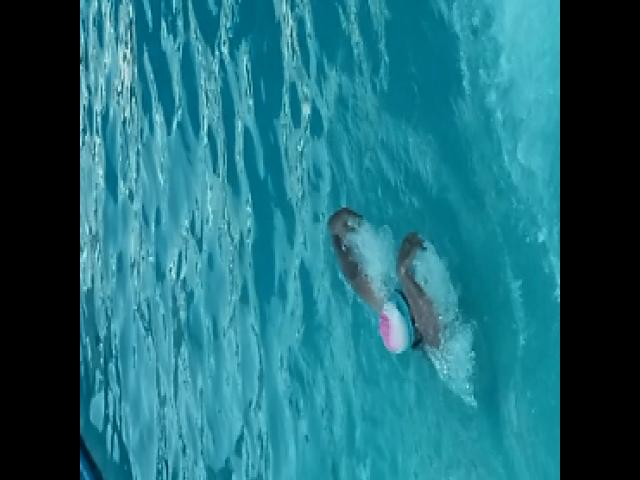drowning: (326, 202, 450, 358)
